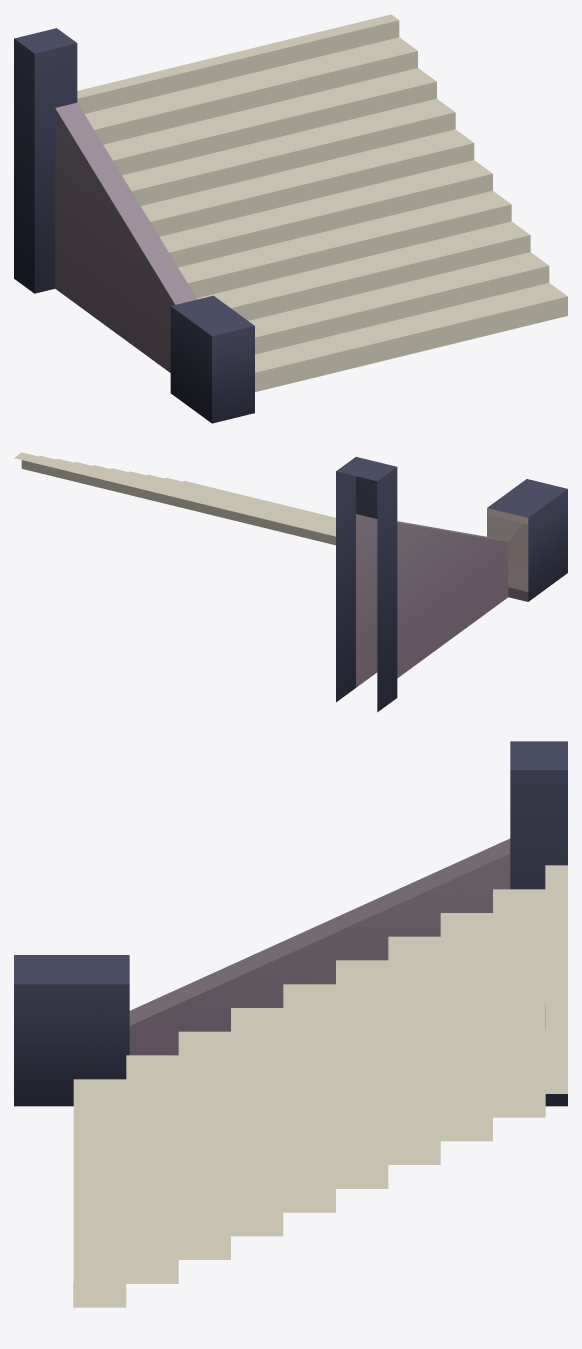
Rendered from leftLongStair1.fbx.
3 renders of one model, top to bottom at view 1: azimuth 30°, elevation 25°; view 2: azimuth 150°, elevation 25°; view 3: azimuth 270°, elevation 25°, orthographic. The views are drawn at different scales.
Visible parts, largest first — view 1: Cube.053; view 2: Cube.053; view 3: Cube.053.
Boxes of the visible parts, box(x1,y1,x2,y2) form: Cube.053: box(14, 14, 567, 423); Cube.053: box(14, 452, 567, 712); Cube.053: box(14, 741, 567, 1308).
Bounding box in the file's own units: 220 × 134 × 200.
